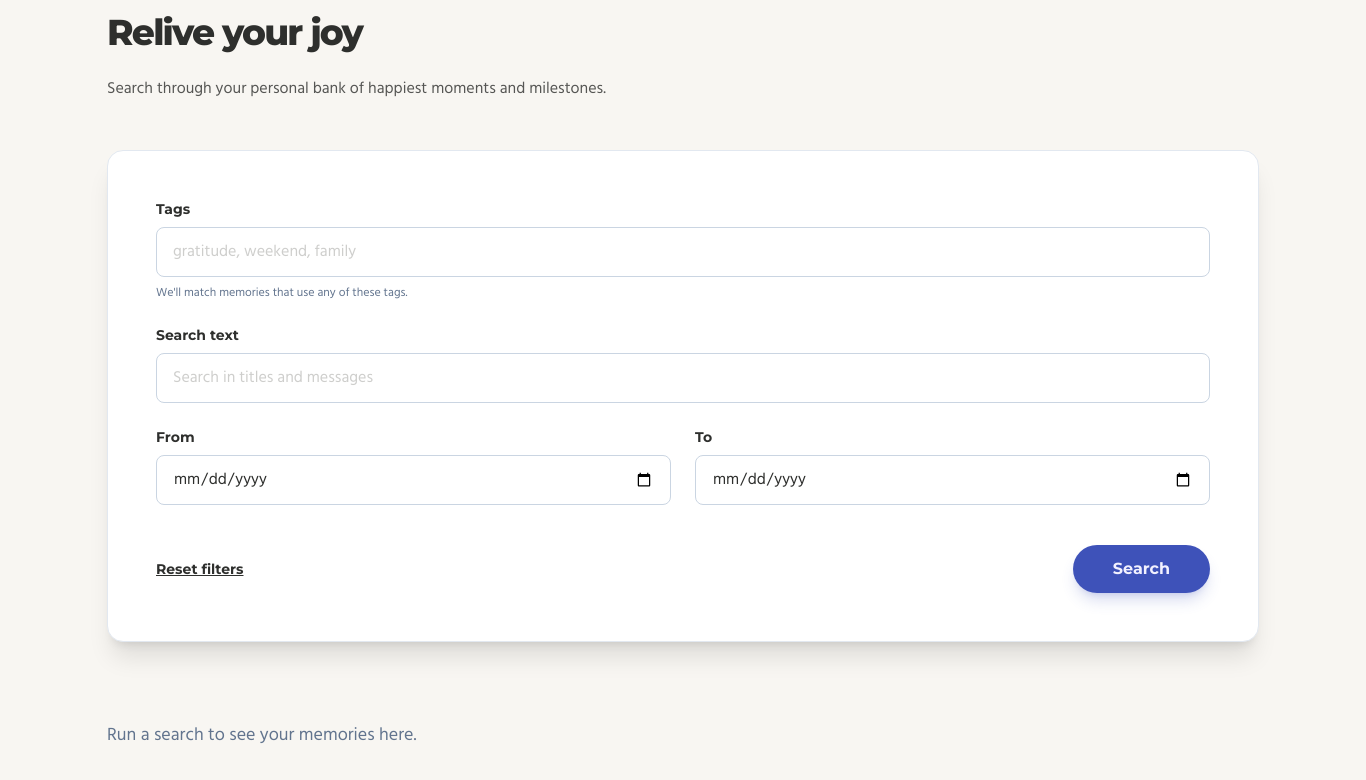
Test case: SearchMemoriesContent › Hashtag Buttons & Input Behavior › adds hashtag button when Space key is pressed
In the field with id "search-hashtags": x=683, y=252 [173,240,1193,264], type "grateful "
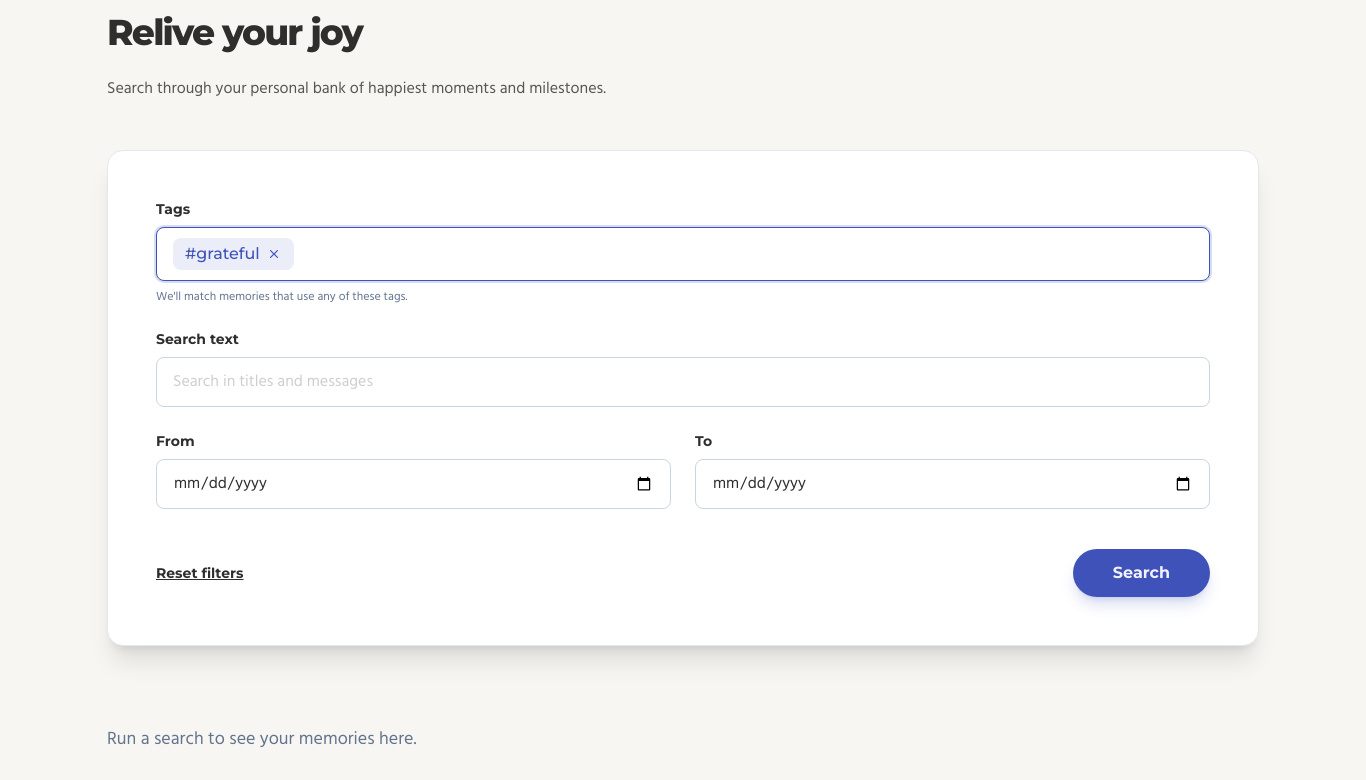
Check: the field with id "search-hashtags" is empty, box [302,242,1193,266]
Check: the text "#grateful" is shown, box [173,238,294,270]
